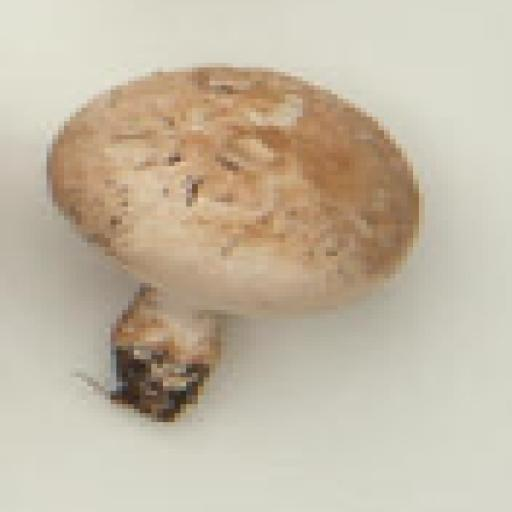Button Mushroom: (43, 56, 430, 430)
